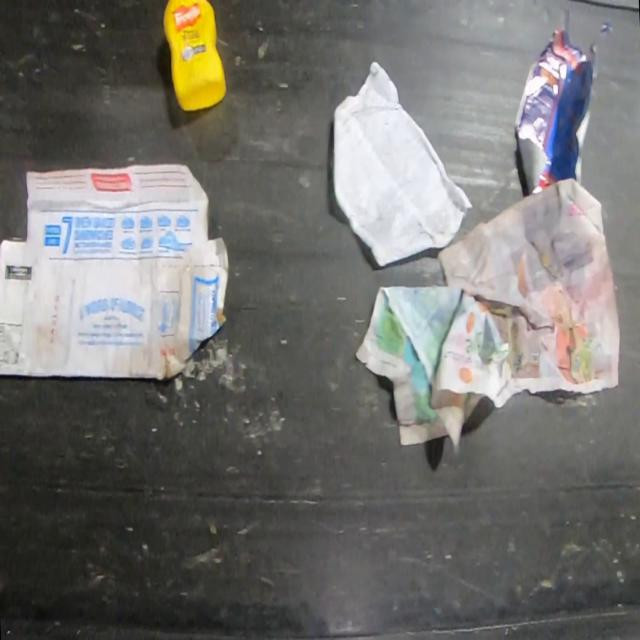cardboard: (0, 162, 231, 383)
rigid_plastic: (162, 0, 227, 113)
